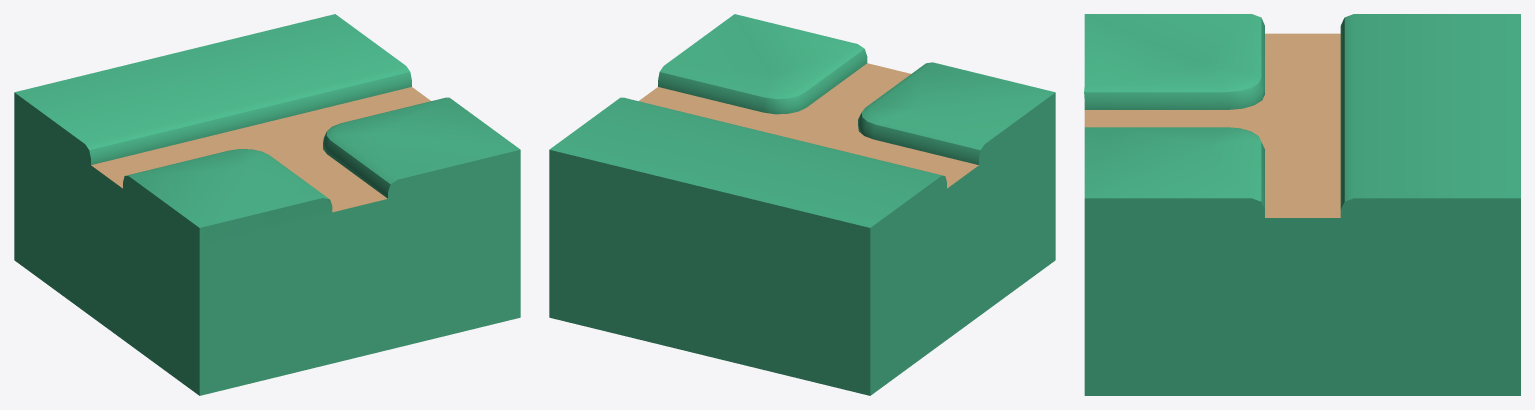
Rendered from square_forest_roadD.glb.
3 views of the same model, side by side, from view 1: azimuth 30°, elevation 25°; view 2: azimuth 150°, elevation 25°; view 3: azimuth 270°, elevation 25° (orthographic). The views are drawn at different scales.
Parts seen in each view (by area): view 1: square_forest_roadD; view 2: square_forest_roadD; view 3: square_forest_roadD.
Boxes of the visible parts, bbox=[...] form: square_forest_roadD: bbox=[14, 14, 520, 395]; square_forest_roadD: bbox=[549, 14, 1055, 395]; square_forest_roadD: bbox=[1084, 14, 1520, 395].
Bounding box in the file's own units: 2 × 1 × 2.
